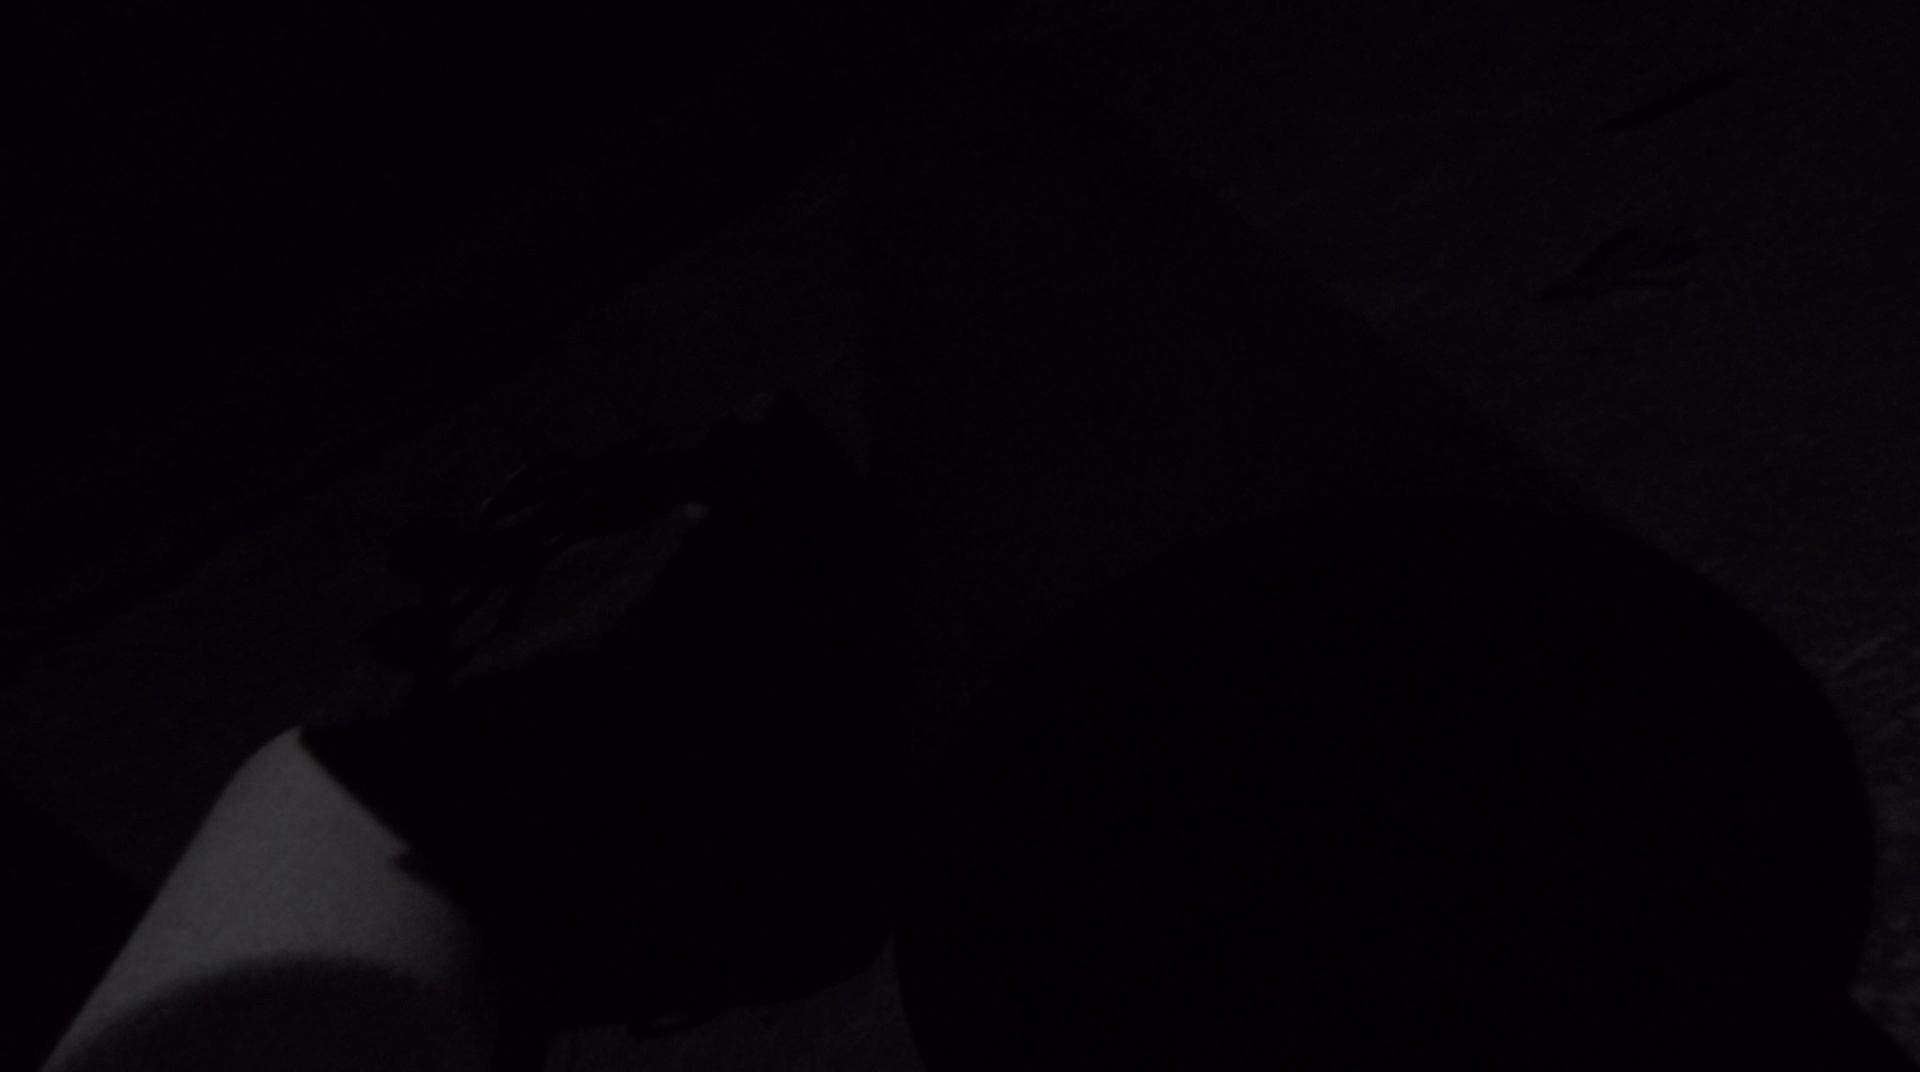led_block: (298, 385, 907, 1006)
pipe: (36, 727, 484, 1068)
